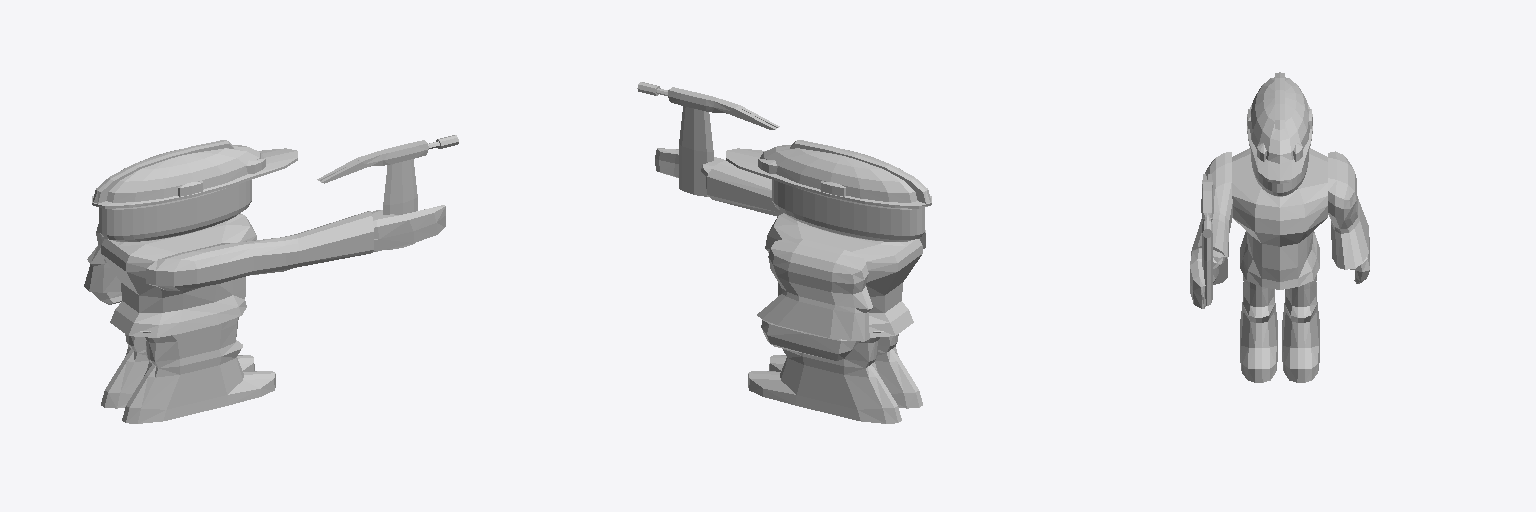
File: carpenter.obj
The picture shows the model from 3 angles: view 1: azimuth 30°, elevation 25°; view 2: azimuth 150°, elevation 25°; view 3: azimuth 270°, elevation 25°; orthographic projection.
Visible parts, largest first — view 1: Builder9 initialShadingGroup initialShadingGroup1 polySurface1; view 2: Builder9 initialShadingGroup initialShadingGroup1 polySurface1; view 3: Builder9 initialShadingGroup initialShadingGroup1 polySurface1.
Part boxes in pixels (bbox=[...]): Builder9 initialShadingGroup initialShadingGroup1 polySurface1: bbox=[84, 135, 458, 423]; Builder9 initialShadingGroup initialShadingGroup1 polySurface1: bbox=[637, 82, 931, 423]; Builder9 initialShadingGroup initialShadingGroup1 polySurface1: bbox=[1190, 72, 1369, 382].
Size of the model in its own units: 1.57 by 1.13 by 0.7473.